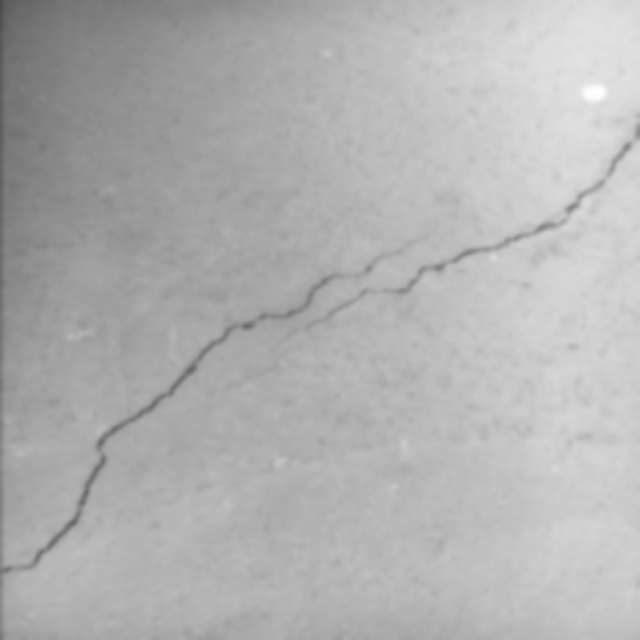SurfaceCrack: (1, 8, 640, 612)
